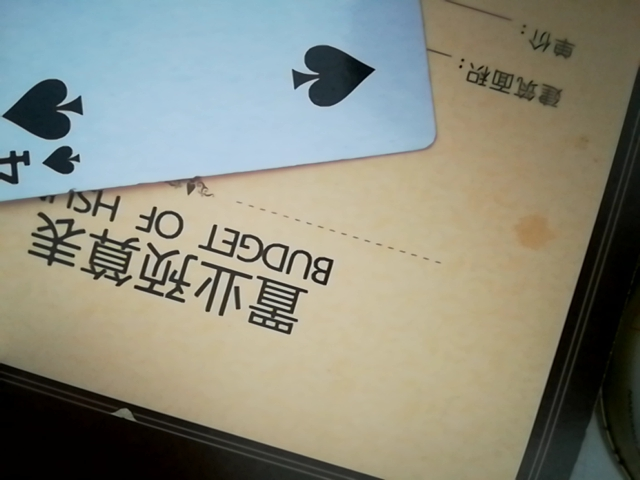ht 4: (0, 0, 444, 206)
